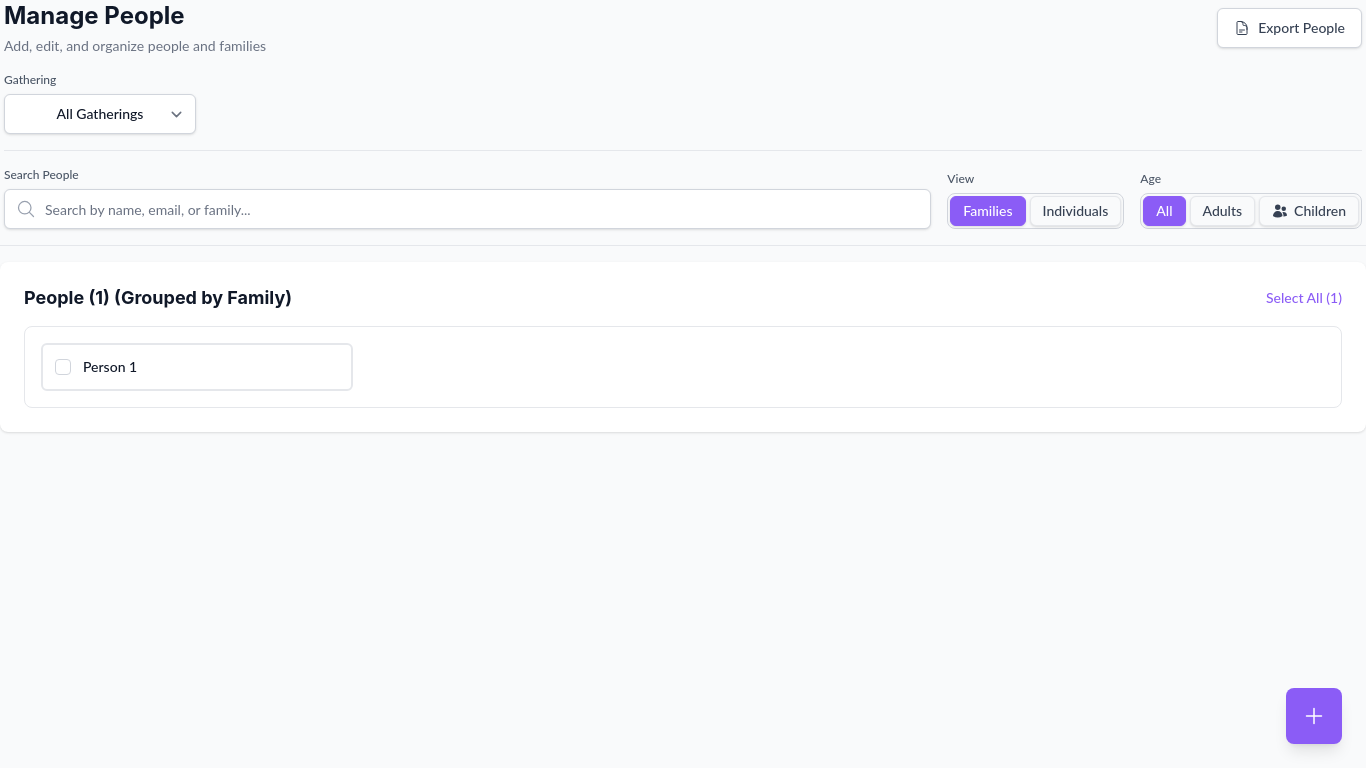
it: PeoplePage provider import › offers administrators an import action for an populated locally managed roster
The image size is (1366, 768).
What coordinates should you click on to do the following:
click the button named "Add people"
I would click on:
 (1314, 716)
Its box is [1286,688,1342,744].
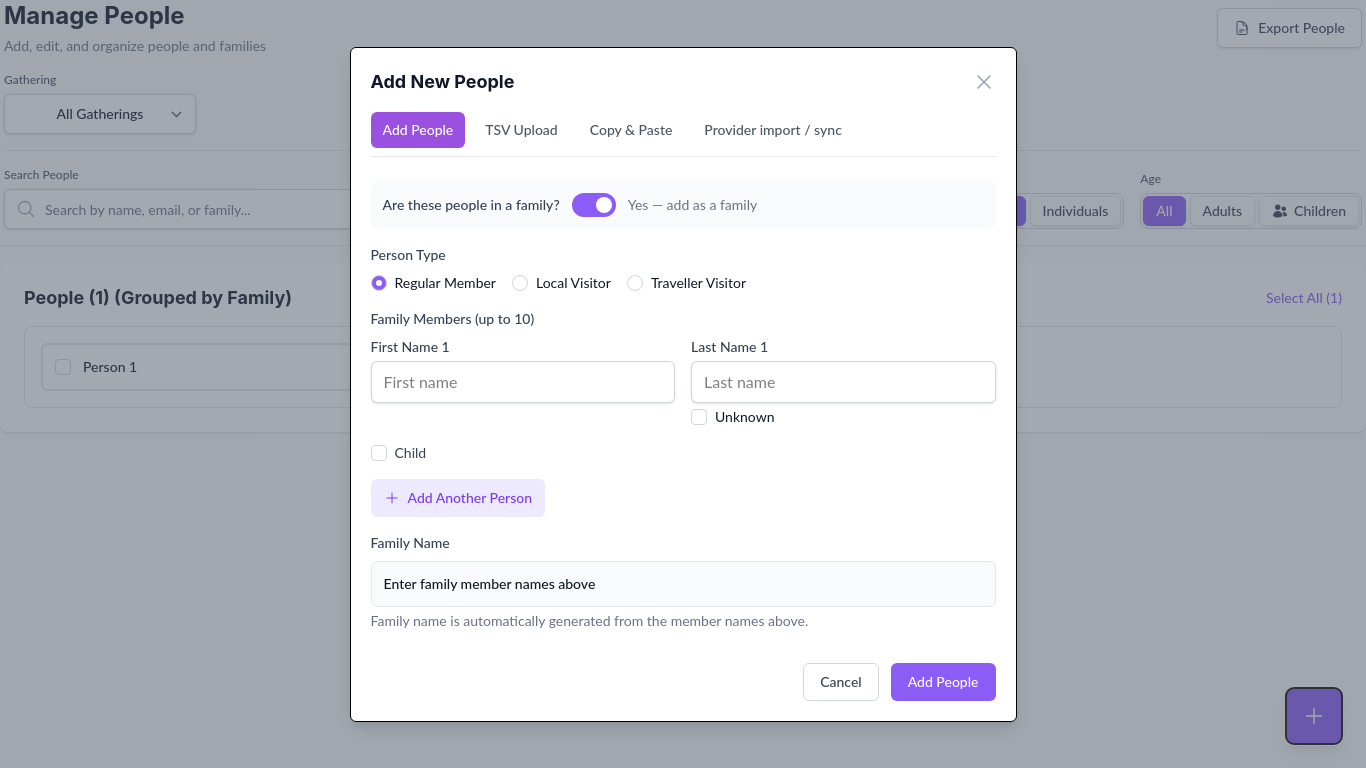
Now the tab "Provider import / sync" is enabled, box [692,112,854,148]
